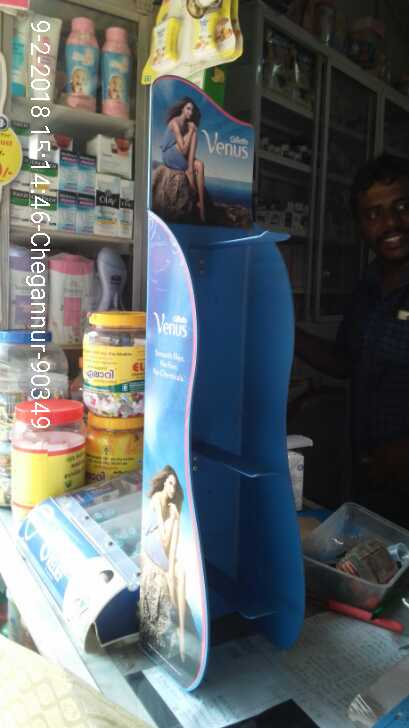reject: (181, 291, 332, 433)
